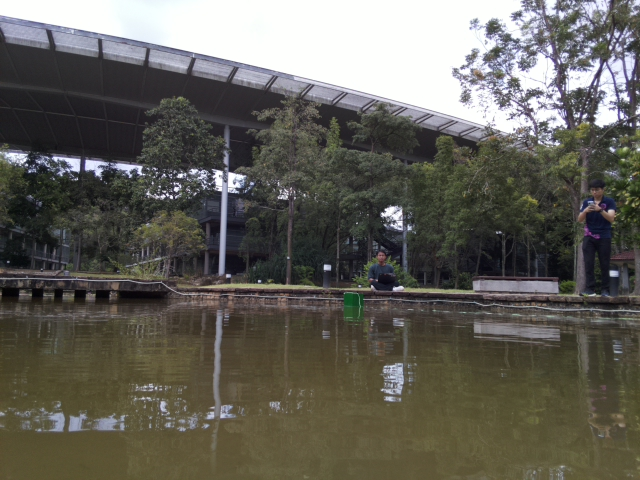obstacle: (343, 292, 364, 309)
